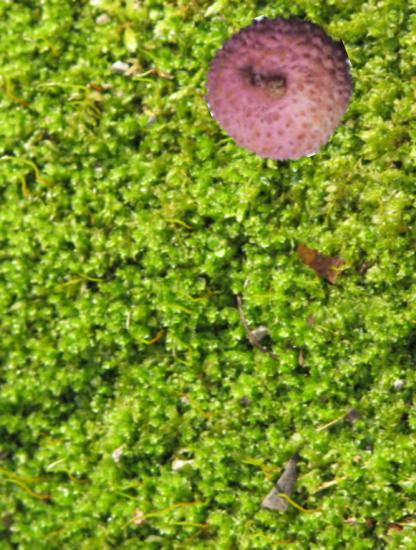Lychee: (206, 13, 356, 163)
